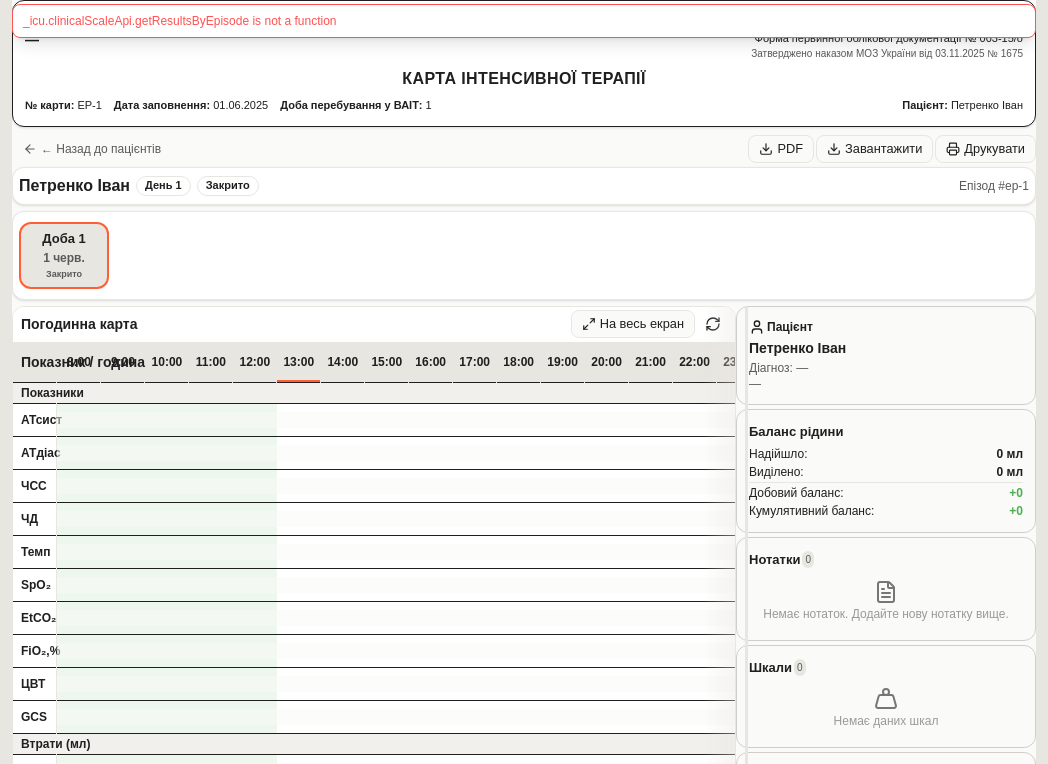
Test: PatientDayPage › closed-day PDF download/print (no MIS transfer) › downloads the stored PDF bytes on download click
Click the button "Завантажити" at (875, 148), box [816,134,933,162]
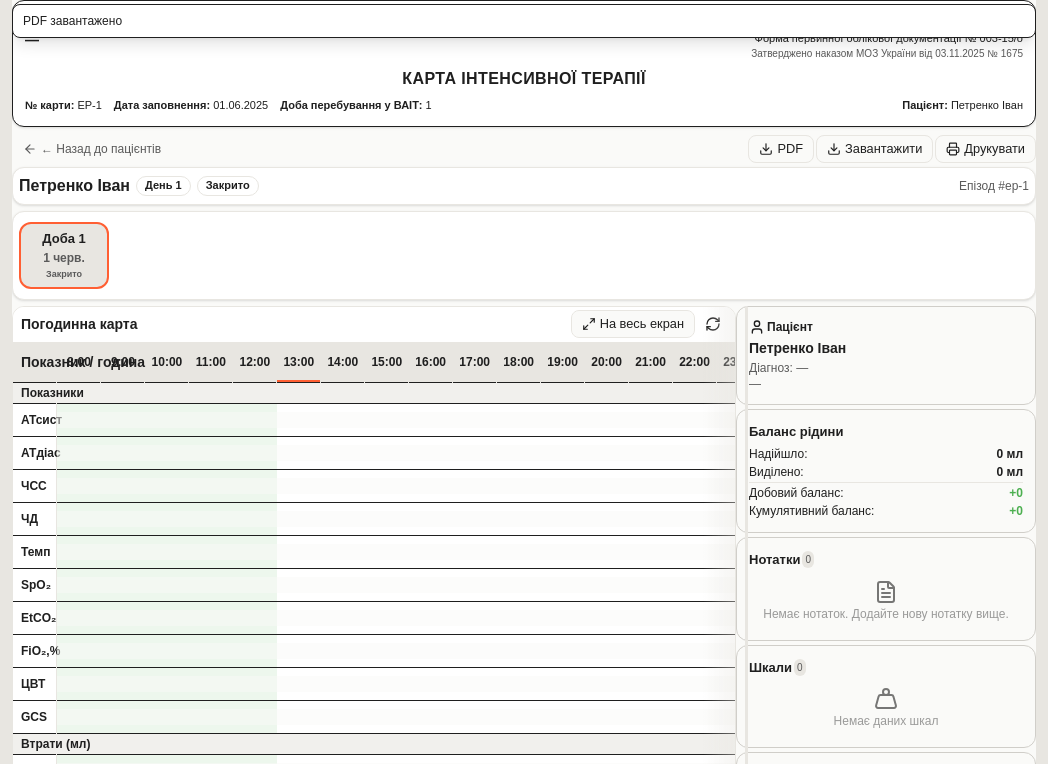
Expected: the text "PDF завантажено" is shown, [12,4,1036,38]
